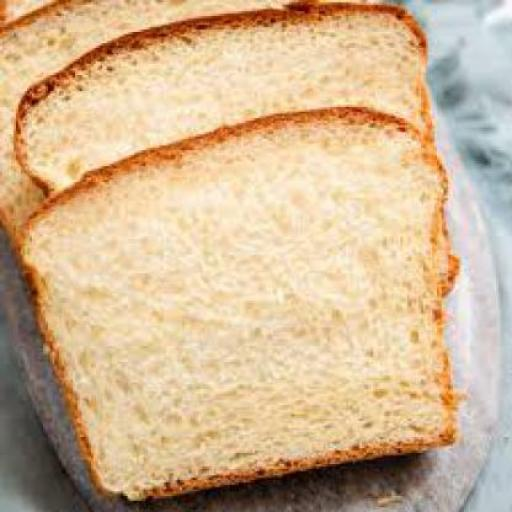biodegradable: (14, 107, 456, 499), (12, 0, 432, 198), (0, 0, 297, 246)
